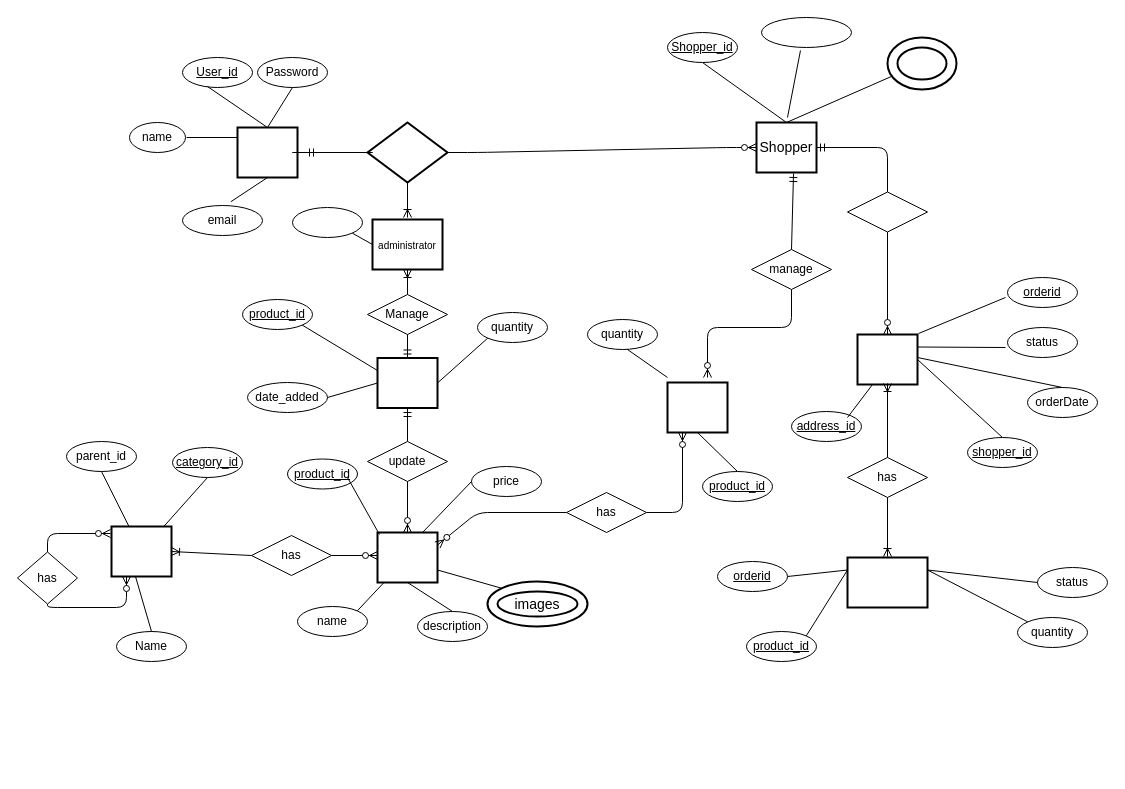
Image size: 1125x789. Some labels were removed from this diagram. Each missing label, with the centre of its shape:
Address: the point at 921,63
adminId: the point at 327,222
Login: the point at 407,152
order: the point at 887,359
ordersItem: the point at 887,582
phone_no: the point at 806,32
placed: the point at 887,211
product: the point at 407,557
product Category: the point at 141,551
Shopping_cart: the point at 697,407
Stock: the point at 407,382
user: the point at 267,152
